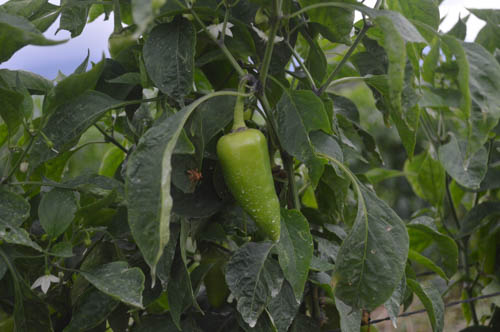ChiliPepper: (220, 130, 284, 242)
